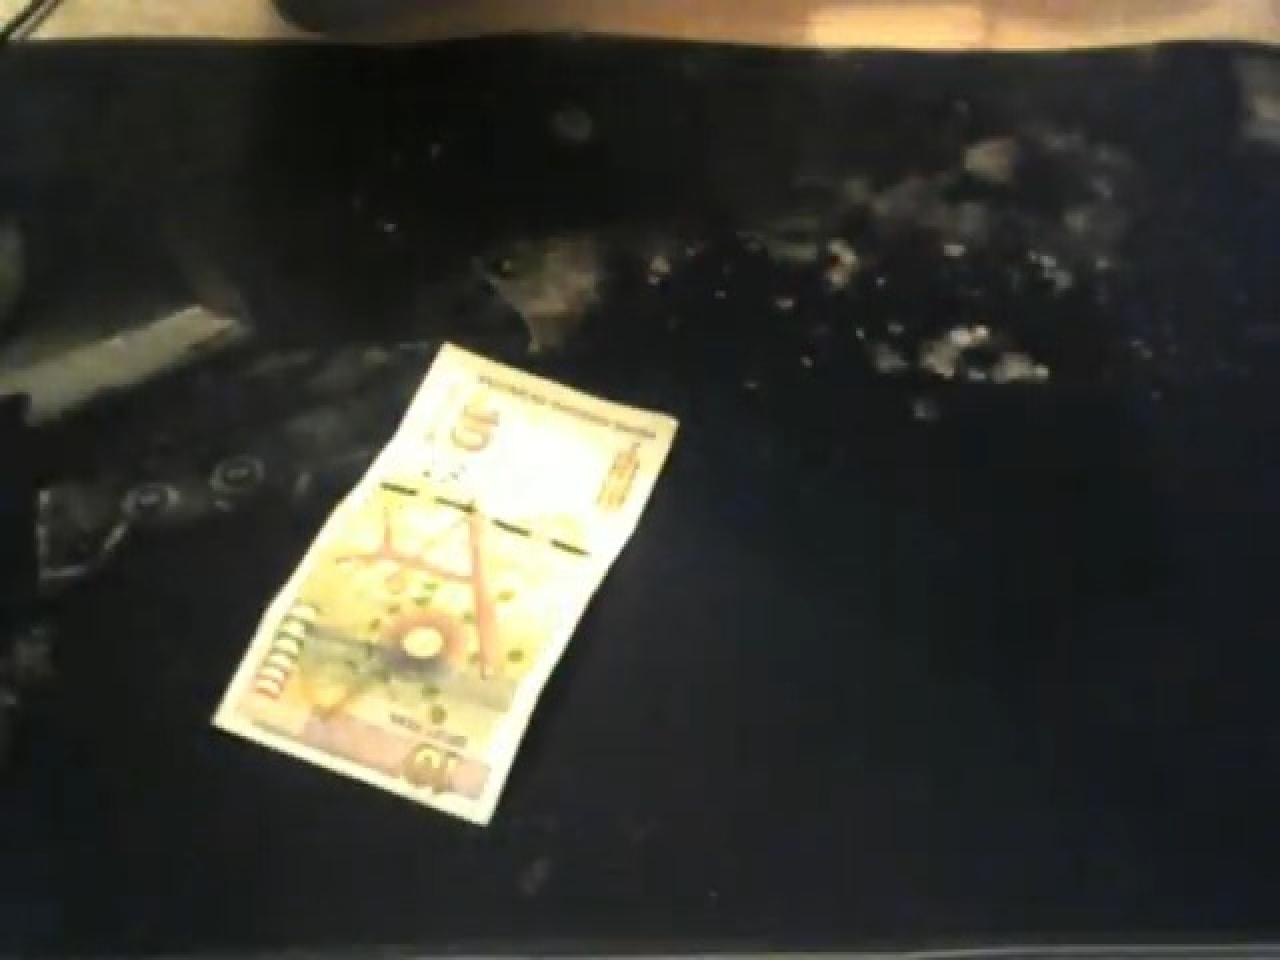10leva: (208, 347, 680, 829)
